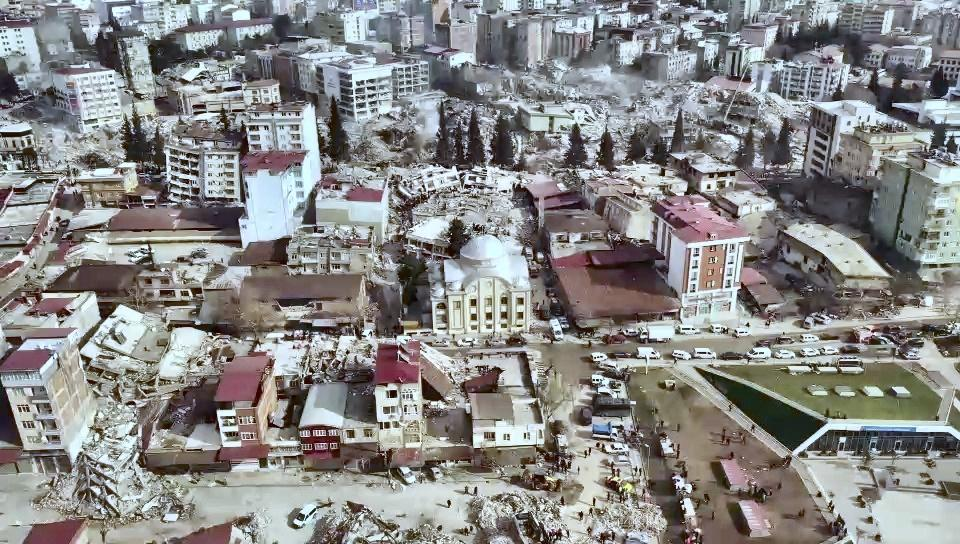kapali: (0, 486, 216, 543), (454, 479, 581, 543)
